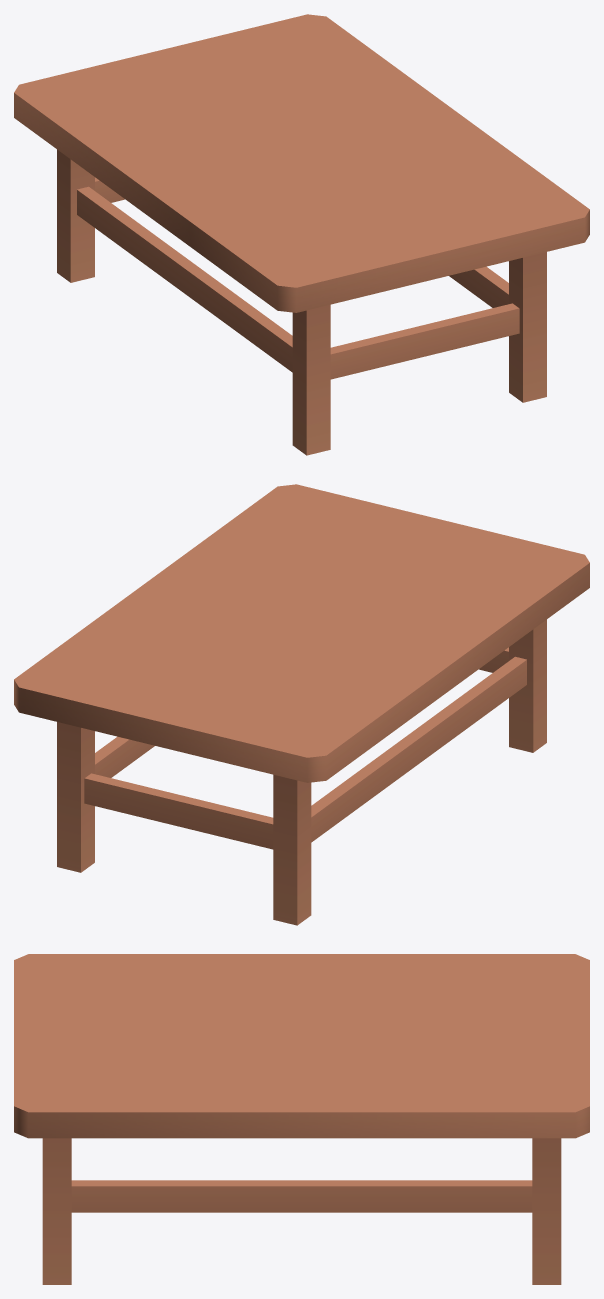
File: k-fantasy-town-stall.glb
3 views of the same model, one above another, from view 1: azimuth 30°, elevation 25°; view 2: azimuth 150°, elevation 25°; view 3: azimuth 270°, elevation 25° (orthographic). The views are drawn at different scales.
Visible parts, largest first — view 1: stall; view 2: stall; view 3: stall.
Part boxes in pixels (x1,y1,x2,y2): stall: [14, 14, 589, 455]; stall: [14, 484, 589, 925]; stall: [14, 954, 589, 1284].
Size of the model in its own units: 0.65 by 0.3655 by 1.
1 material, 1 textured.
